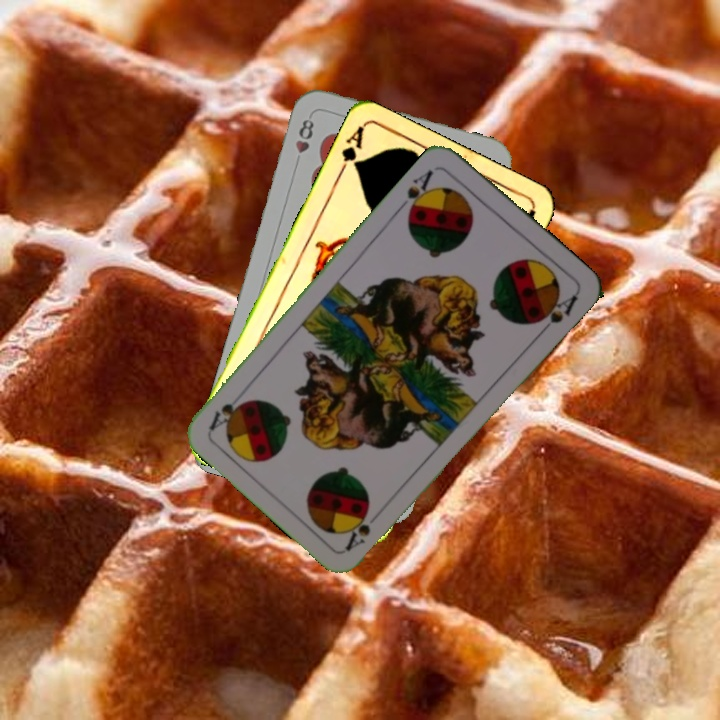GA: (334, 122, 367, 179)
H8: (291, 114, 317, 169)
SA: (395, 165, 438, 219), (341, 504, 386, 554)
